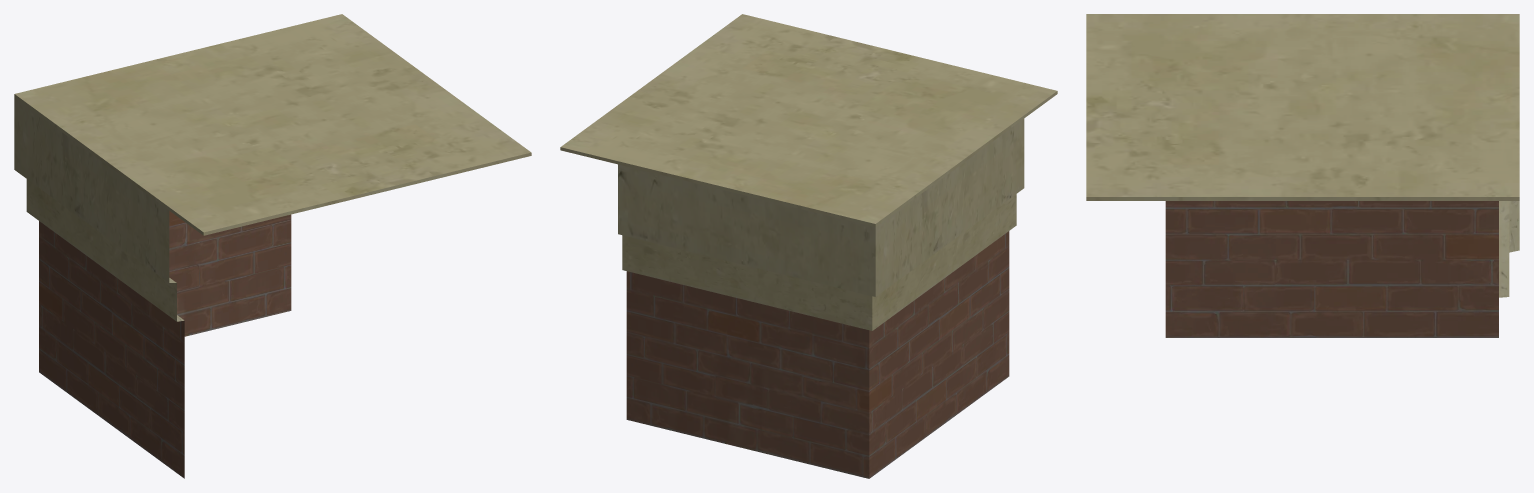
Rendered from Brick_CornerColumn_Cap.glb.
3 renders of one model, left to right at view 1: azimuth 30°, elevation 25°; view 2: azimuth 150°, elevation 25°; view 3: azimuth 270°, elevation 25°, orthographic. The views are drawn at different scales.
Parts seen in each view (by area): view 1: Brick_CornerColumn_Cap; view 2: Brick_CornerColumn_Cap; view 3: Brick_CornerColumn_Cap.
Boxes of the visible parts, x1,y1,x2,y2 form: Brick_CornerColumn_Cap: (14,14,531,478); Brick_CornerColumn_Cap: (560,14,1057,478); Brick_CornerColumn_Cap: (1086,14,1519,337).
Size of the model in its own units: 1.26 by 1.01 by 1.26.
2 materials, 2 textured.
